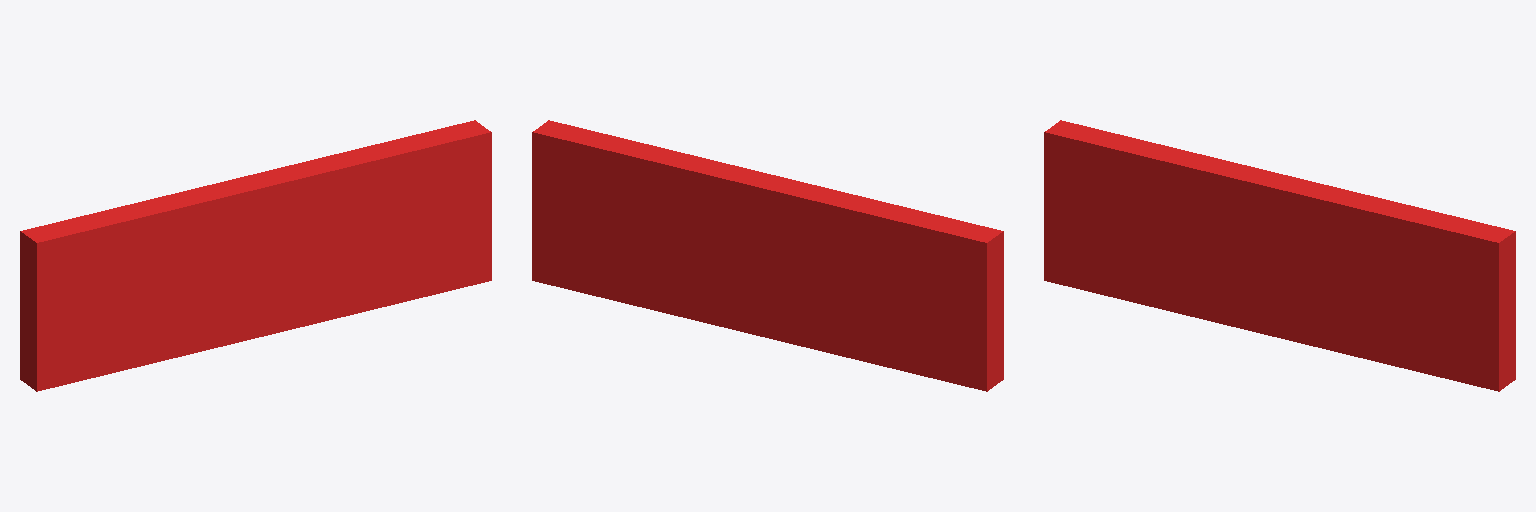
robot.urdf — enclosure wall:
<?xml version="1.0"?>
<robot name="enclosure wall">
    <!-- Colors -->
    <material name="red">
        <color rgba="0.941 0.204 0.204 1"/>
    </material>

    <!-- Wall -->
    <link name="base_link">
        <visual>
            <geometry>
                <box size="8 0.5 2.5" />
                <origin rpy="0 0 0" xyz="0 0 0"/>
            </geometry>
            <material name="red"/>
        </visual>

        <collision>
             <geometry>
                <box size="8 0.5 2.5" />
                <origin rpy="0 0 0" xyz="0 0 0"/>
            </geometry>
        </collision>
        <inertial>
            <mass value="0"/>
            <inertia ixx="0" ixy="0" ixz="0" iyy="0" iyz="0" izz="0"/>
        </inertial>
    </link>
</robot>

--- Facts derived from the render (not from the file) ---
3 views of the same robot in one strip: view 1: azimuth 30°, elevation 25°; view 2: azimuth 150°, elevation 25°; view 3: azimuth 330°, elevation 25° (orthographic).
Model enclosure wall with 1 links and 0 joints (none), rooted at base_link, posed every joint at zero.
Links seen in each view (by area): view 1: base_link; view 2: base_link; view 3: base_link.
Boxes of the visible links, left/top/right/bottom form: base_link: left=20, top=120, right=491, bottom=391; base_link: left=532, top=120, right=1003, bottom=391; base_link: left=1044, top=120, right=1515, bottom=391.
Bounding box of the posed robot: 8 × 0.5 × 2.5 m (x, y, z).
Geometry: primitives only (box / cylinder / sphere), no mesh files.